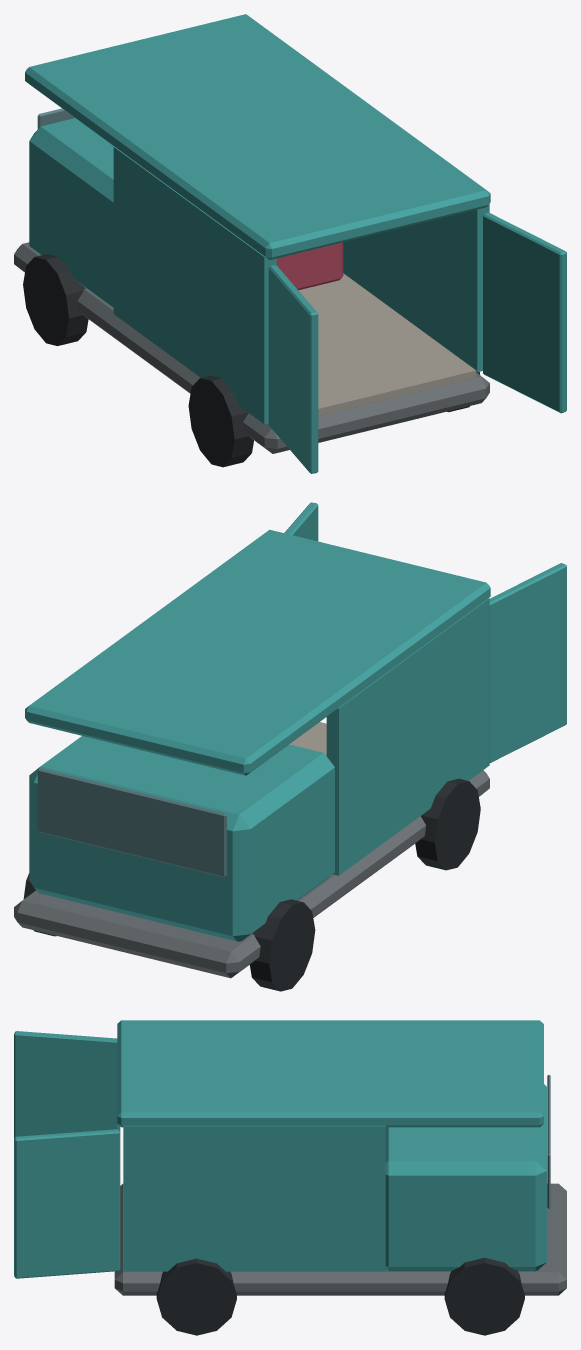
The model's file is passenger_van.glb.
3 renders of one model, top to bottom at view 1: azimuth 30°, elevation 25°; view 2: azimuth 150°, elevation 25°; view 3: azimuth 270°, elevation 25°, orthographic. The views are drawn at different scales.
Visible parts, largest first — view 1: Roof, RearSide, RearSide.001, RearDoorPanel.001, RearFloor, Cabin, Chassis, RearDoorPanel, Wheel.005, Wheel.004, PassengerBench; view 2: Roof, Cabin, RearSide, RearDoorPanel, Chassis, Windshield, Wheel.005, Wheel.004, RearDoorPanel.001, RearFloor; view 3: Roof, RearSide.001, Cabin, RearDoorPanel.001, RearDoorPanel, Chassis, Wheel.007, Wheel.006, Windshield.
Part boxes in pixels (left/top/right/bottom): Roof: left=25, top=14, right=490, bottom=260; RearSide: left=113, top=146, right=276, bottom=424; RearSide.001: left=343, top=204, right=489, bottom=372; RearDoorPanel.001: left=483, top=212, right=566, bottom=413; RearFloor: left=298, top=273, right=476, bottom=415; Cabin: left=29, top=118, right=113, bottom=307; Chassis: left=14, top=242, right=489, bottom=453; RearDoorPanel: left=268, top=265, right=318, bottom=473; Wheel.005: left=23, top=254, right=88, bottom=345; Wheel.004: left=188, top=375, right=253, bottom=467; PassengerBench: left=276, top=242, right=343, bottom=290; Roof: left=25, top=529, right=490, bottom=775; Cabin: left=29, top=736, right=334, bottom=941; RearSide: left=326, top=598, right=489, bottom=875; RearDoorPanel: left=489, top=563, right=566, bottom=762; Chassis: left=14, top=770, right=489, bottom=978; Windshield: left=37, top=768, right=226, bottom=877; Wheel.005: left=250, top=899, right=315, bottom=991; Wheel.004: left=415, top=778, right=480, bottom=870; RearDoorPanel.001: left=284, top=502, right=318, bottom=541; RearFloor: left=289, top=722, right=326, bottom=755; Roof: left=117, top=1020, right=543, bottom=1127; RearSide.001: left=123, top=1125, right=385, bottom=1271; Cabin: left=385, top=1084, right=546, bottom=1271; RearDoorPanel.001: left=14, top=1129, right=120, bottom=1278; RearDoorPanel: left=14, top=1031, right=120, bottom=1137; Chassis: left=114, top=1183, right=566, bottom=1295; Wheel.007: left=444, top=1257, right=524, bottom=1335; Wheel.006: left=156, top=1258, right=236, bottom=1335; Windshield: left=547, top=1075, right=550, bottom=1208.
Size of the model in its own units: 2.51 by 2.33 by 5.38.
